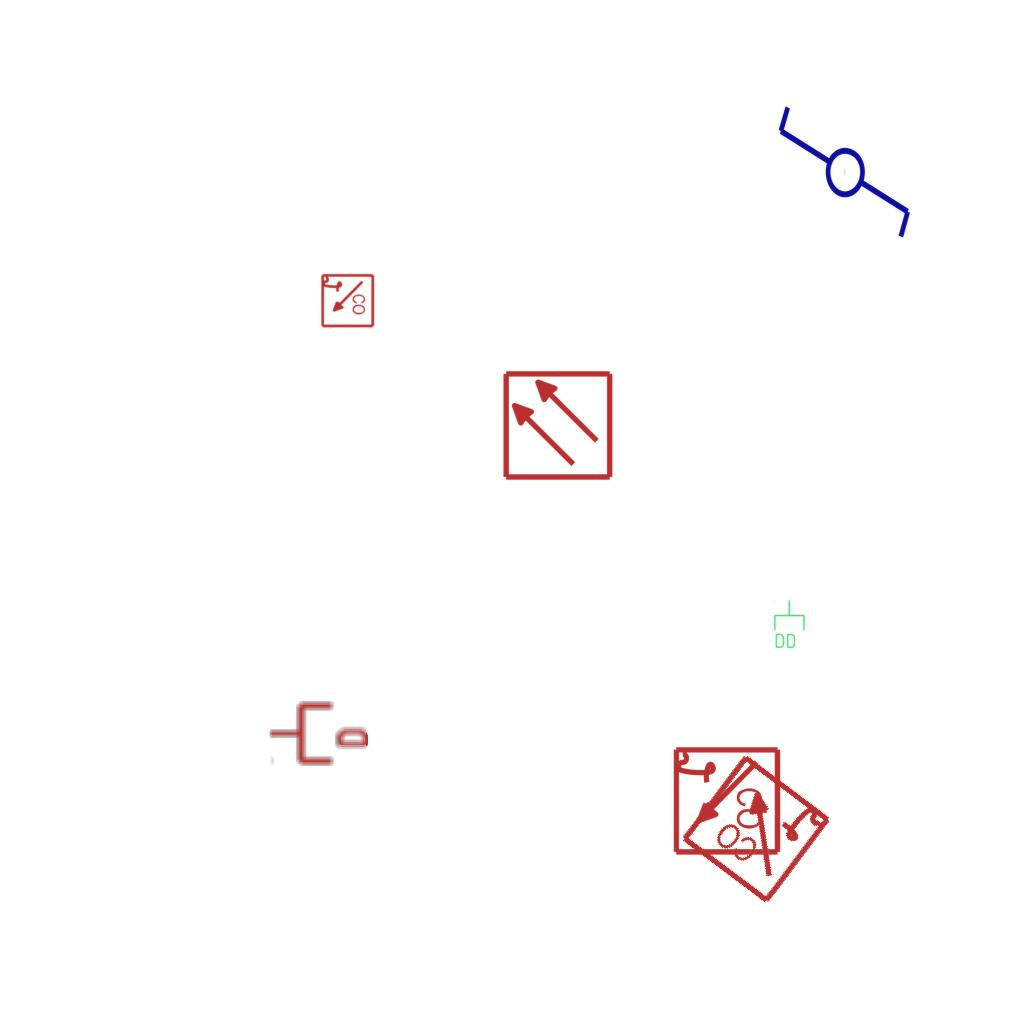Datenanschluss_einfach: (268, 699, 368, 768)
Datenanschluss_zweifach: (772, 599, 806, 650)
RMO_Rauchmelder_optischer: (501, 369, 614, 482)
ROA_Rauchmelder_optisch_mit_Signalgeber_(Sockelsirene): (677, 748, 836, 907), (669, 745, 782, 858), (319, 273, 375, 329)
Wechselschalter: (771, 102, 915, 259)
